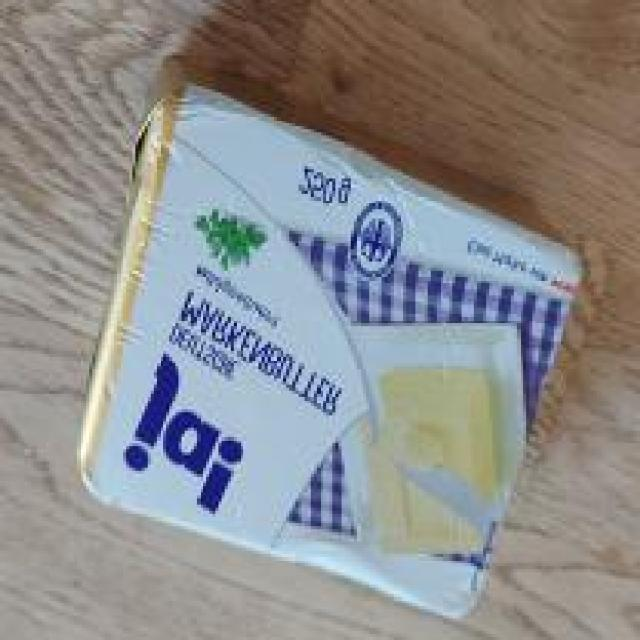butter: (73, 49, 584, 616)
